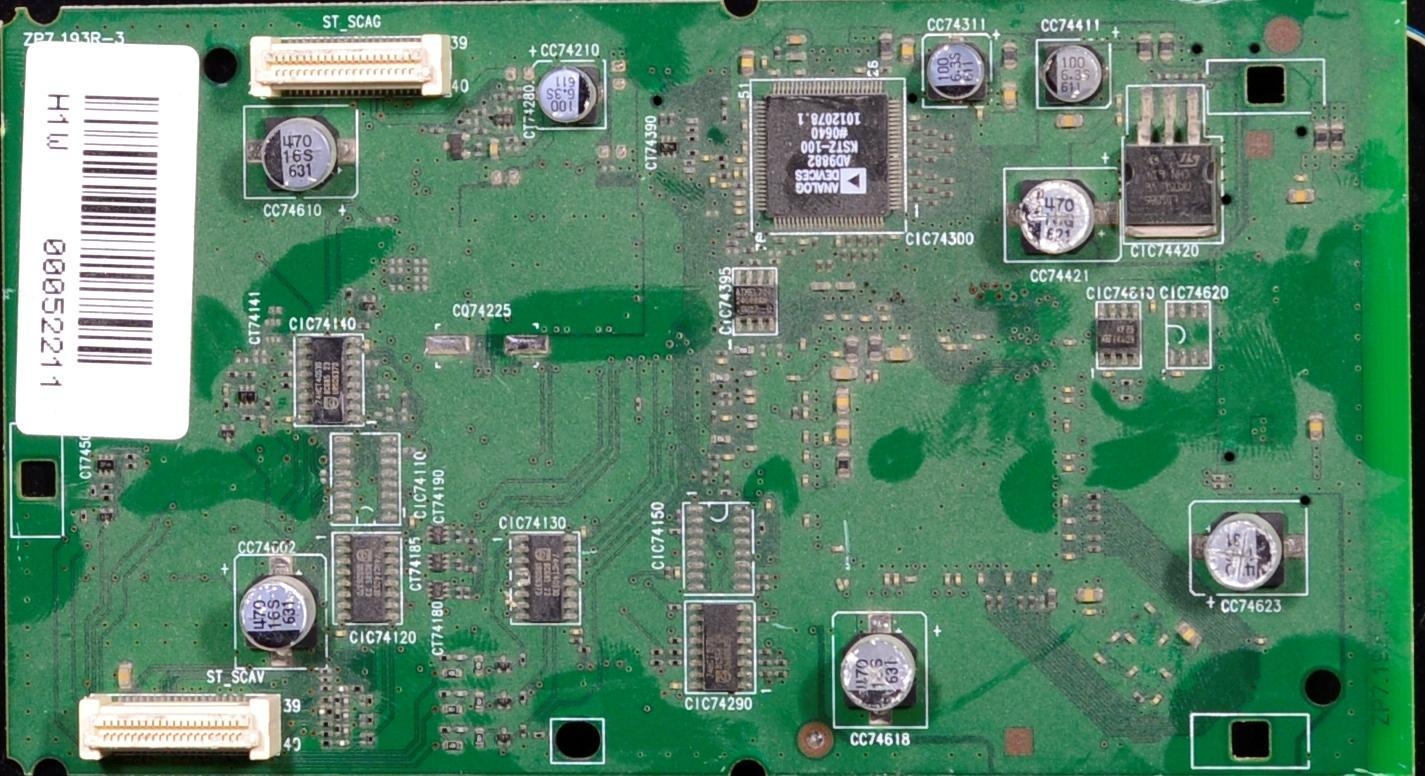Capacitor: (243, 107, 361, 202), (234, 558, 327, 669), (1010, 169, 1106, 261), (1193, 499, 1285, 591), (843, 626, 919, 715), (1040, 41, 1111, 111), (533, 66, 607, 131), (923, 41, 989, 100), (1050, 109, 1089, 137), (1000, 79, 1021, 120), (830, 361, 858, 390), (738, 51, 762, 84), (836, 421, 858, 454), (1177, 622, 1202, 648), (1306, 413, 1325, 446), (831, 389, 853, 417), (900, 38, 919, 67), (879, 343, 904, 365), (783, 29, 808, 51), (1078, 588, 1106, 607), (486, 136, 501, 165), (808, 280, 837, 295), (837, 283, 859, 294)
Connector: (78, 693, 285, 766), (249, 36, 472, 99)
IC: (748, 82, 910, 234), (1126, 84, 1222, 240), (679, 502, 759, 602), (505, 532, 587, 627), (326, 431, 406, 526), (329, 532, 405, 626), (685, 601, 755, 701), (295, 337, 369, 426), (725, 268, 777, 342), (1166, 301, 1215, 374), (1093, 302, 1146, 368)
Resistor: (878, 31, 903, 67), (1000, 40, 1023, 75), (1131, 34, 1158, 62), (1313, 121, 1331, 158), (833, 452, 854, 480), (865, 336, 884, 365), (1329, 124, 1346, 156), (844, 337, 862, 367), (769, 42, 787, 70), (468, 656, 485, 678), (1155, 29, 1168, 57), (474, 728, 488, 754), (446, 670, 466, 685), (442, 703, 463, 717), (472, 692, 484, 713), (444, 741, 464, 753)
